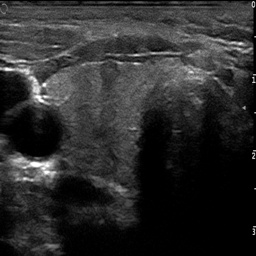mass: (98, 61, 121, 88)
